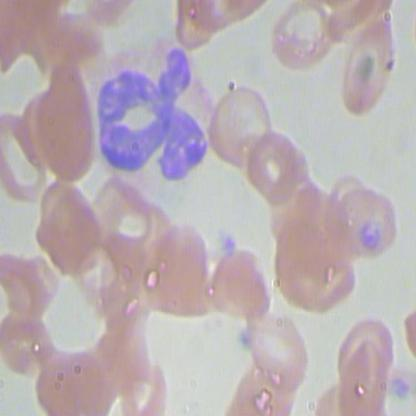Platelets: (218, 232, 240, 259)
RBC: (271, 215, 359, 320), (36, 57, 98, 183), (138, 219, 216, 319), (31, 175, 103, 275), (334, 11, 400, 118), (237, 303, 315, 391), (32, 343, 119, 415), (206, 81, 276, 169), (204, 246, 276, 327), (328, 182, 399, 262), (271, 1, 338, 76), (1, 109, 51, 208), (246, 127, 306, 203), (334, 334, 387, 413), (1, 301, 56, 376)
WBC: (83, 35, 224, 196)
